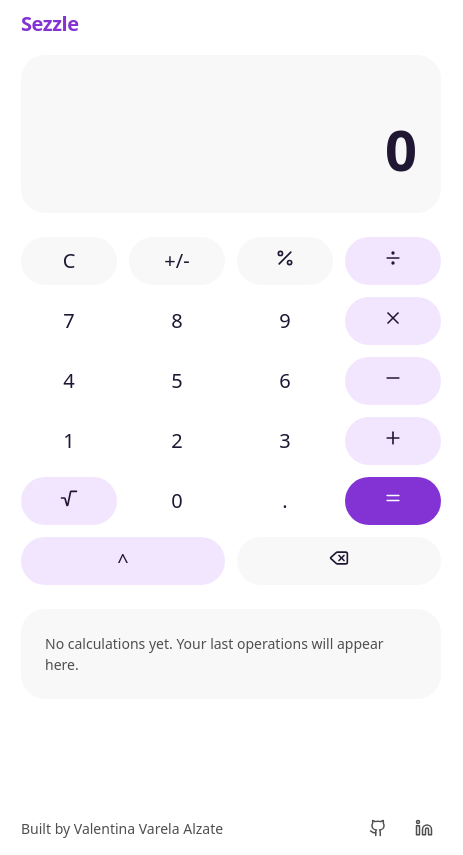
Test: App › flow 1 / 0 = shows the friendly error in an alert and recovers
The image size is (463, 855).
Click the button "1": (69, 441) [21,417,117,465]
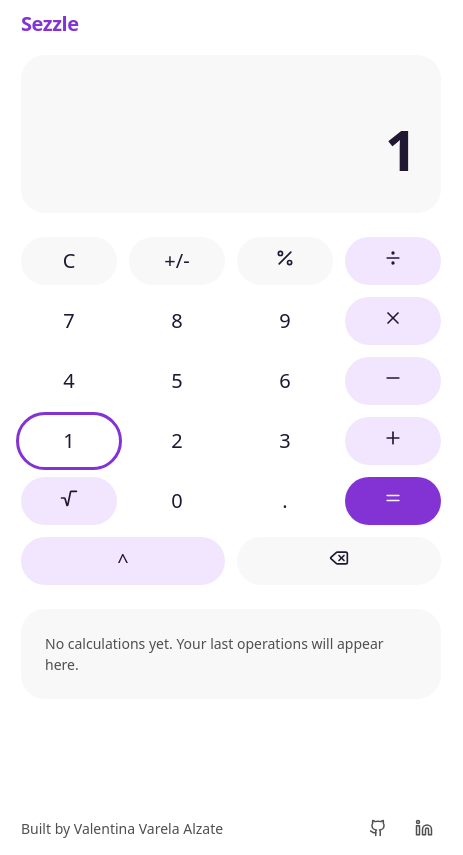
Click the button named "Divide": (393, 261) [345,237,441,285]
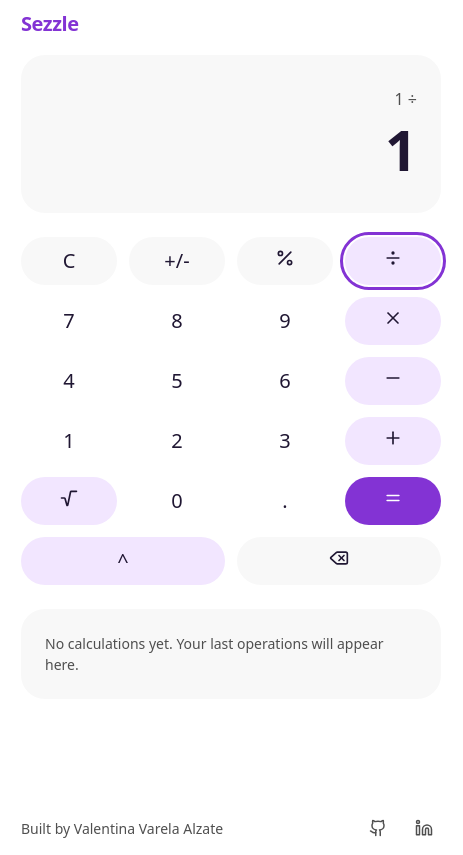
Click the button "0": (177, 501) [129,477,225,525]
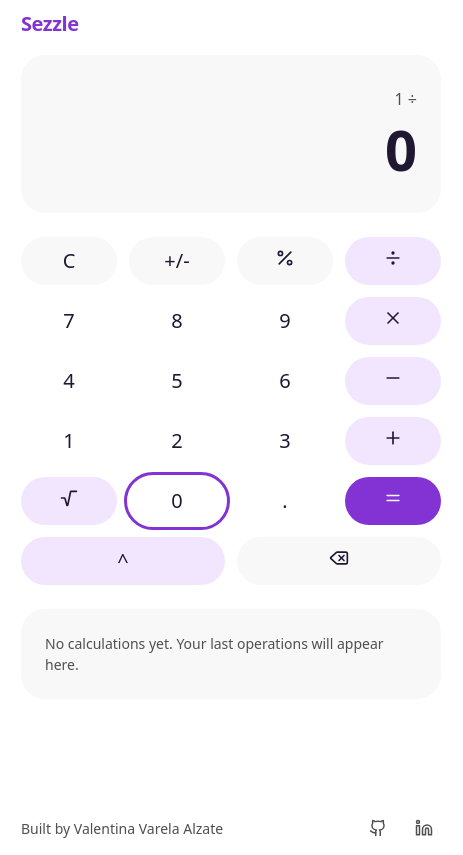
Click the button named "Equals": (393, 501) [345,477,441,525]
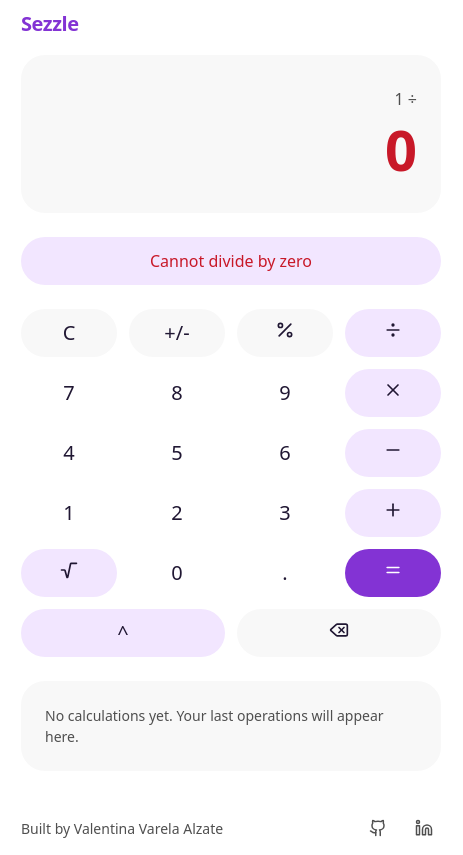
Expected: the message "Cannot divide by zero" is shown, [21,237,441,285]
Note: Any digit recovers.
Click the button "7": (69, 393) [21,369,117,417]
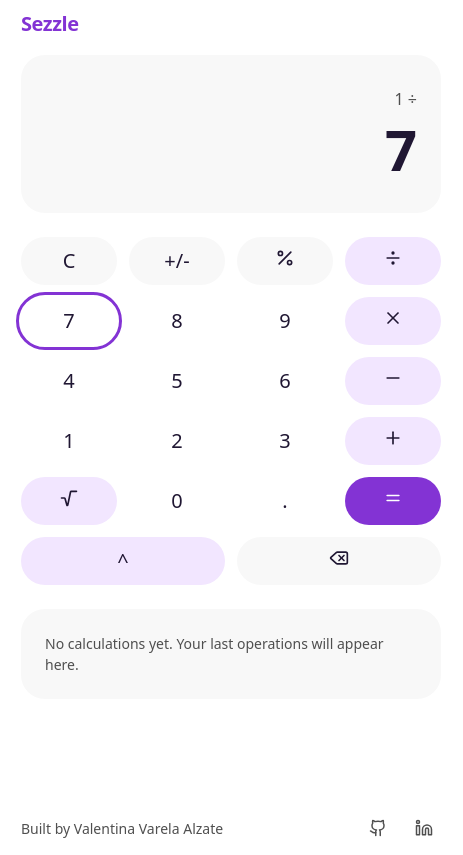
Expected: the message "Cannot divide by zero" is gone
